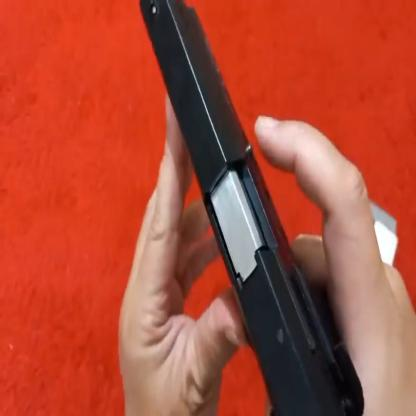handgun: (138, 0, 356, 416)
